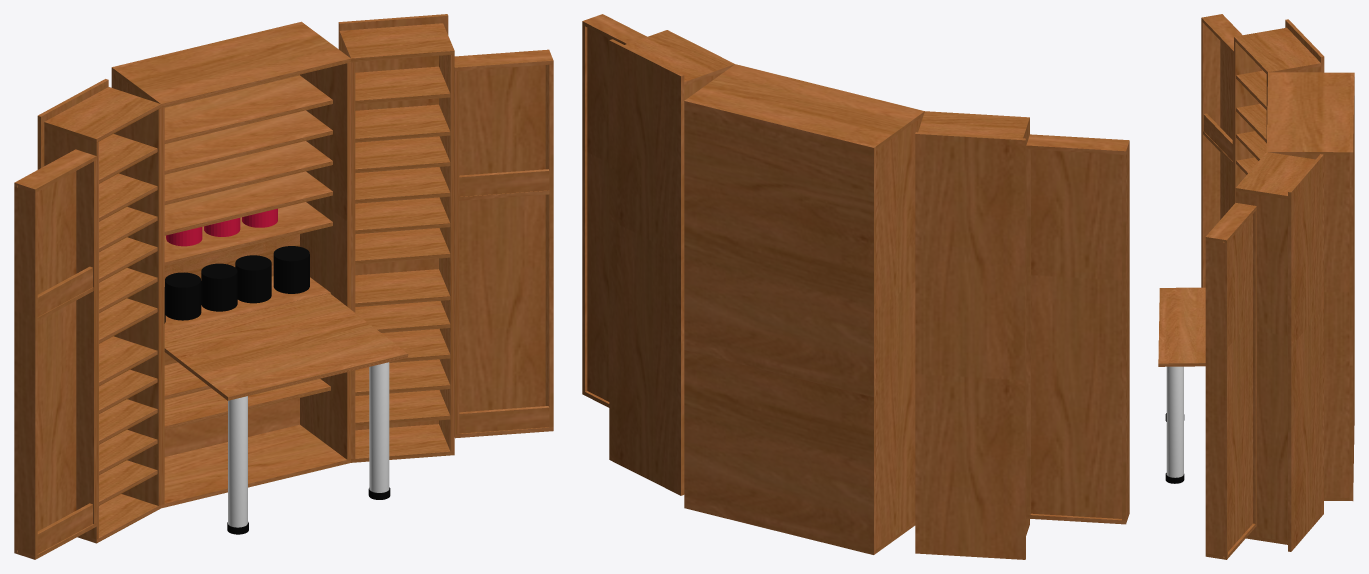
Rendered from uxfixedMmodel.glb.
The picture shows the model from 3 angles, left to right: view 1: azimuth 30°, elevation 25°; view 2: azimuth 150°, elevation 25°; view 3: azimuth 270°, elevation 25°; orthographic projection. The views are drawn at different scales.
Visible parts, largest first — view 1: m, naves, stol, furnit.003, furnit.001; view 2: m, naves; view 3: m, naves, stol.
Part boxes in pixels (left/top/right/bottom): m: left=37, top=14, right=459, bottom=543; naves: left=14, top=49, right=553, bottom=559; stol: left=164, top=293, right=408, bottom=534; furnit.003: left=164, top=246, right=309, bottom=323; furnit.001: left=166, top=208, right=277, bottom=246; m: left=609, top=30, right=1030, bottom=559; naves: left=582, top=14, right=1129, bottom=524; m: left=1232, top=19, right=1354, bottom=551; naves: left=1201, top=14, right=1256, bottom=559; stol: left=1158, top=287, right=1205, bottom=483.
Size of the model in its own units: 5.1 by 3.78 by 1.87.
14 materials, 4 textured.
